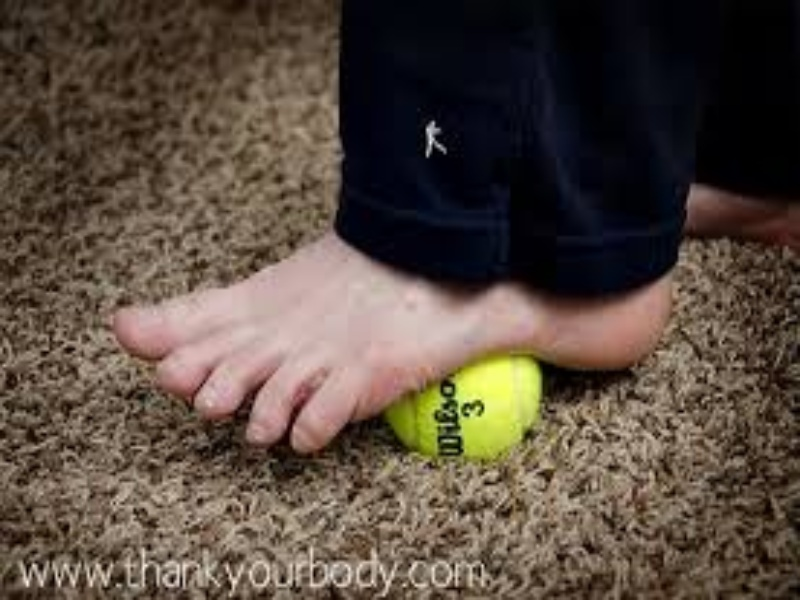tennis ball: (389, 350, 553, 466)
